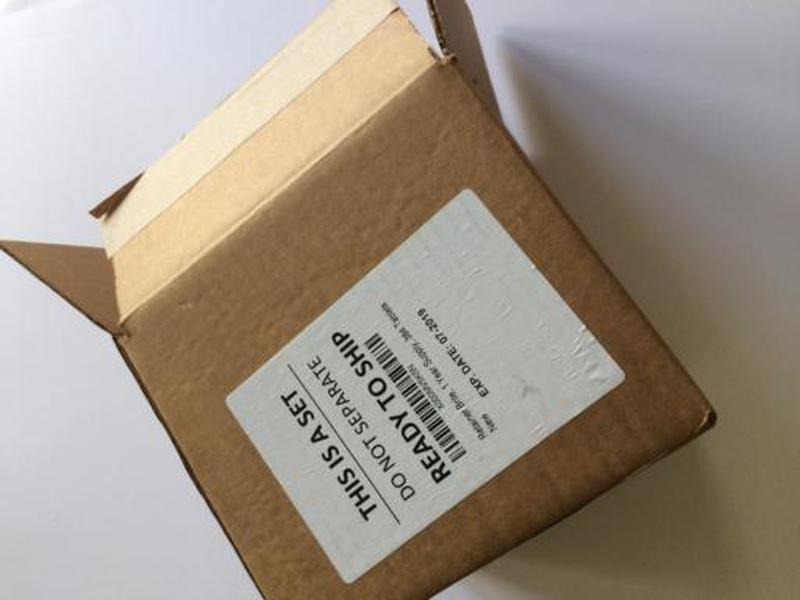cardboard: (2, 1, 722, 600)
